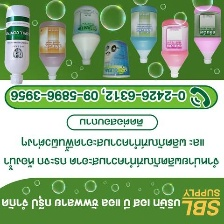insecticide: (3, 2, 31, 87), (71, 3, 102, 68), (192, 0, 222, 67), (37, 18, 67, 82), (160, 16, 189, 79), (129, 4, 158, 66), (100, 38, 132, 79)
